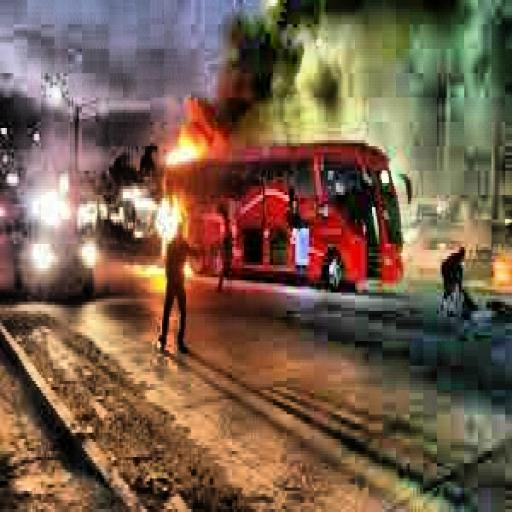fire: (148, 88, 234, 280)
